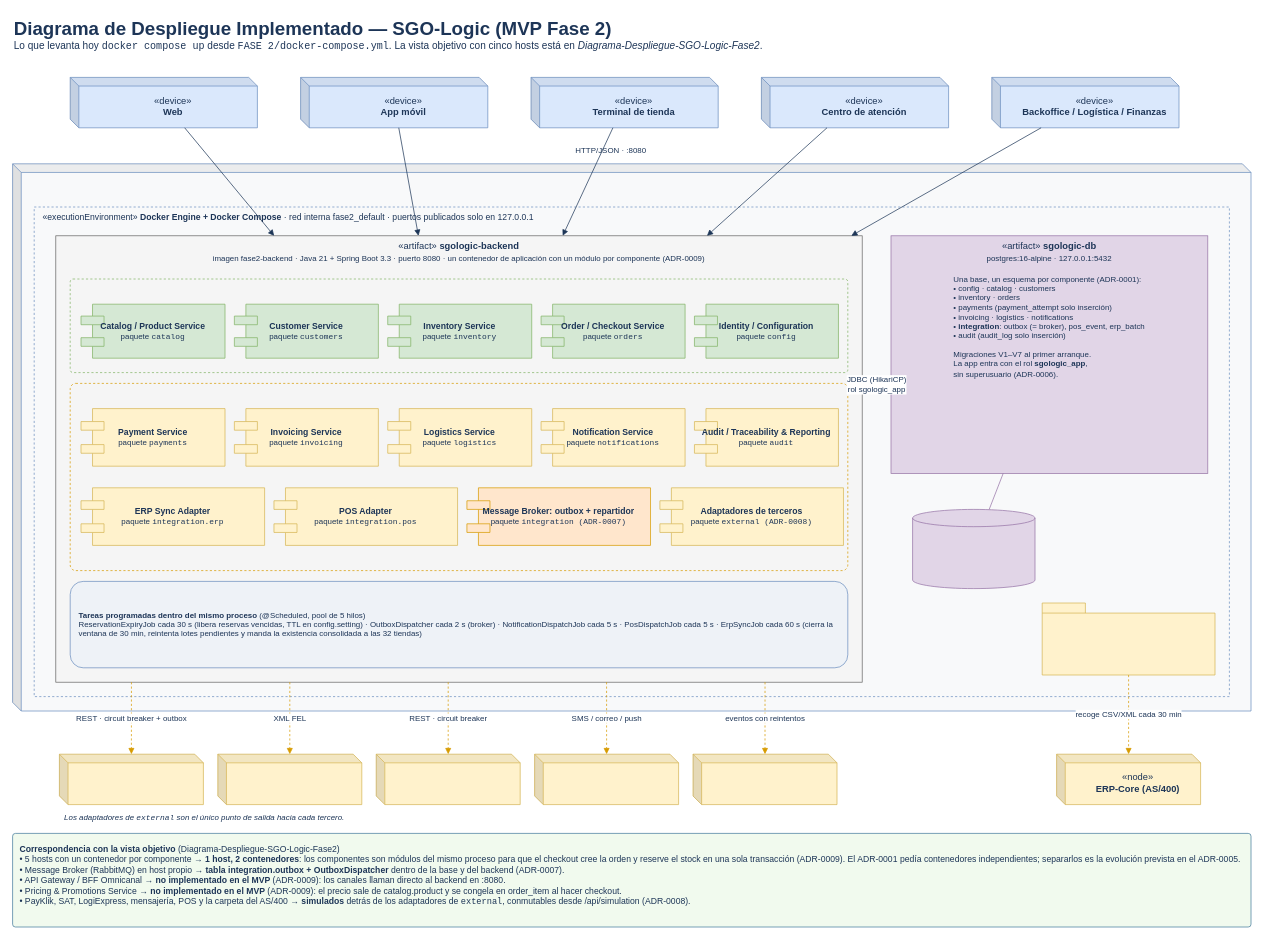
Image size: 1264x940. Some labels were removed from this diagram. The shapes that lost their labels are listed below. From the top down, each one's box as (x1, y1, x2, y2) in pixels, then its label:
(69, 278, 848, 373): Núcleo comercial (Backend 1)
(12, 163, 1251, 711): «device» Servidor on-premises · Datacenter MegaStore (ADR-0005)
(69, 383, 848, 571): Transacciones e integraciones (Backend 2)
(912, 509, 1035, 589): «volume» db_data
(1041, 602, 1215, 675): «bind mount» ./erp-out → /app/erp-out archivos CSV/XML para el AS/400
(59, 753, 203, 805): «node» PayKlik
(217, 753, 362, 805): «node» SAT
(375, 753, 520, 805): «node» LogiExpress
(534, 753, 679, 805): «node» Proveedor de notificaciones
(692, 753, 837, 805): «node» POS (32 tiendas)
